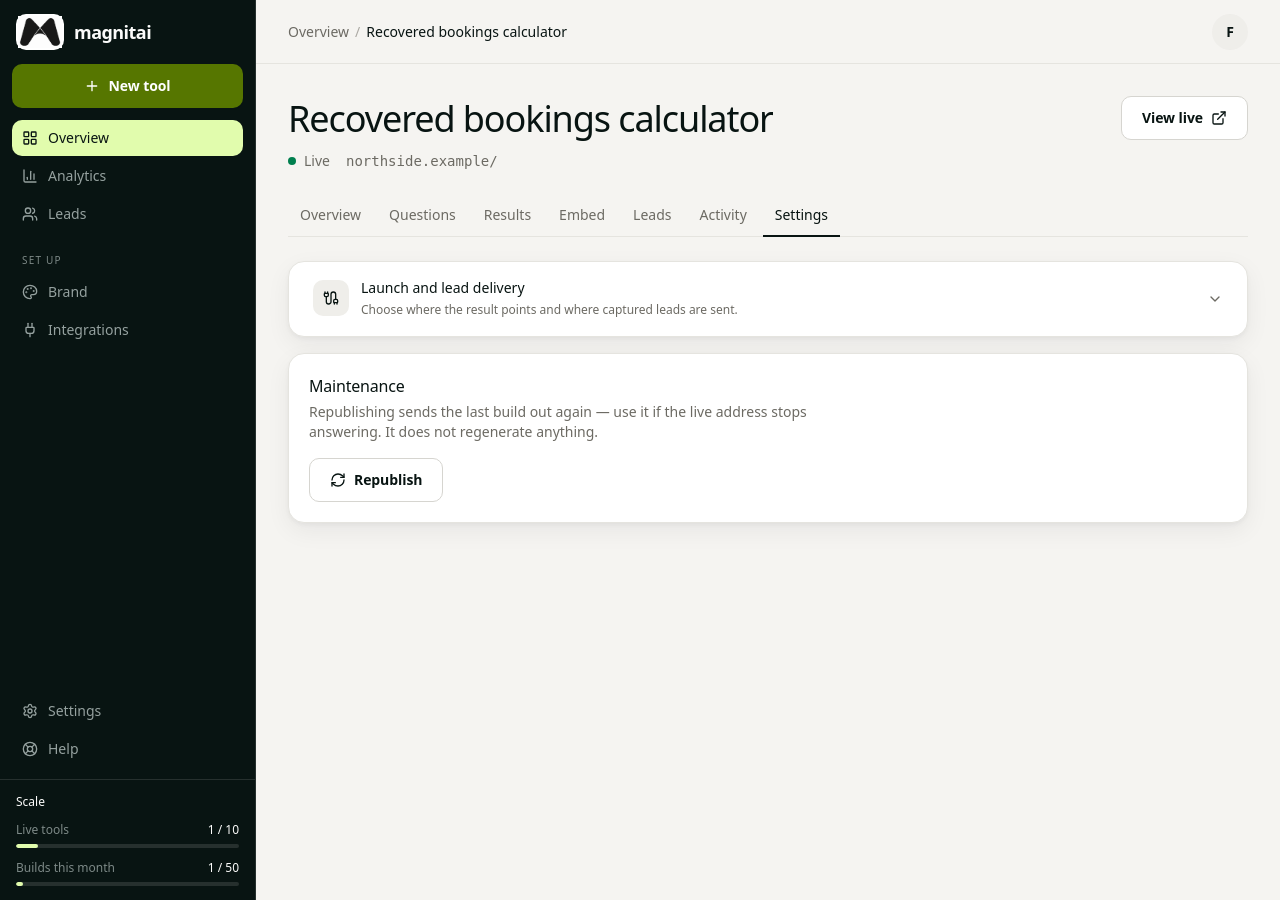
Scenario: widget detail · maintenance › surfaces the server's reason when republishing fails
The width and height of the screenshot is (1280, 900).
Click the button "Republish".
click(376, 480)  # box top-left (309, 458), bottom-right (443, 502)
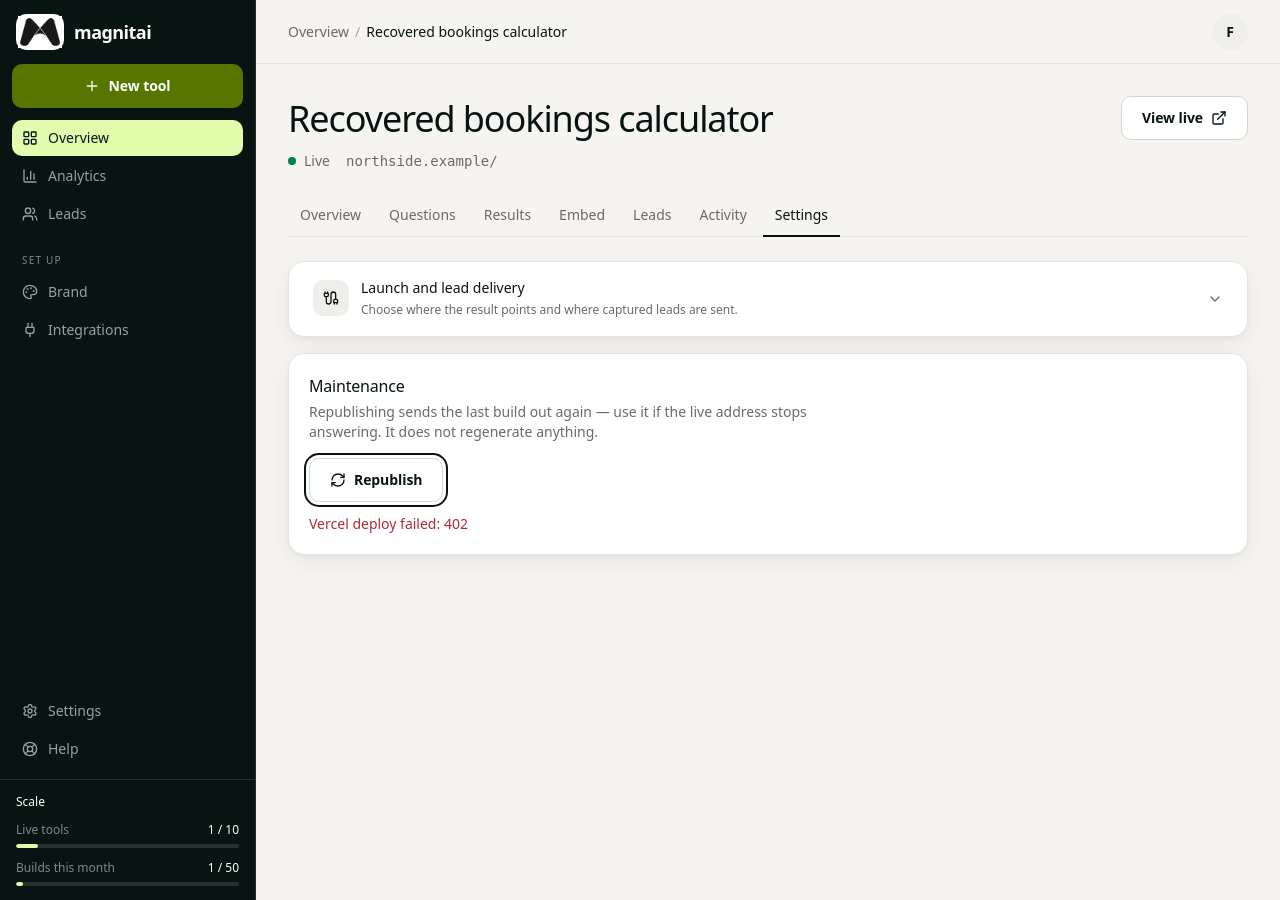
Expected: the text "Vercel deploy failed: 402" is shown, top-left (309, 514), bottom-right (468, 533)
